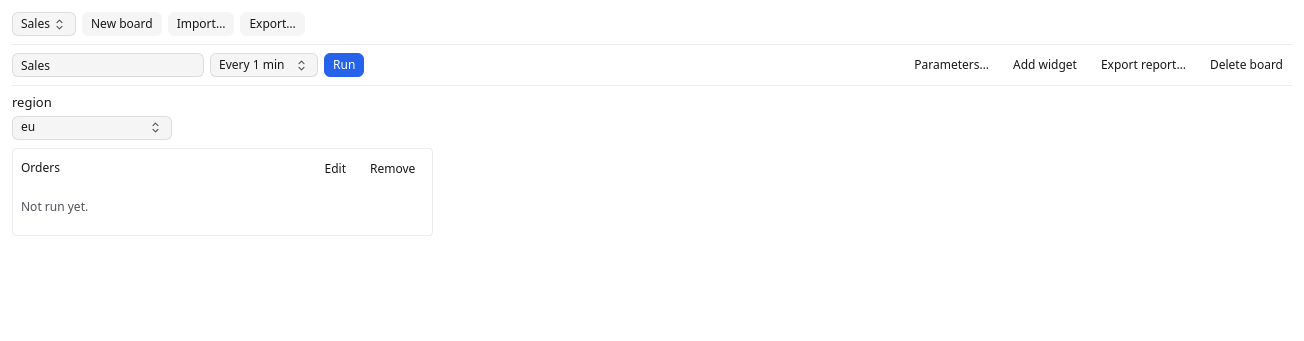
Scenario: runs only on an explicit Run, binding typed values
Step 1. Select "us" in the dropdown labelled "region" → {"x": 92, "y": 128}, box x1=13 y1=116 x2=171 y2=138
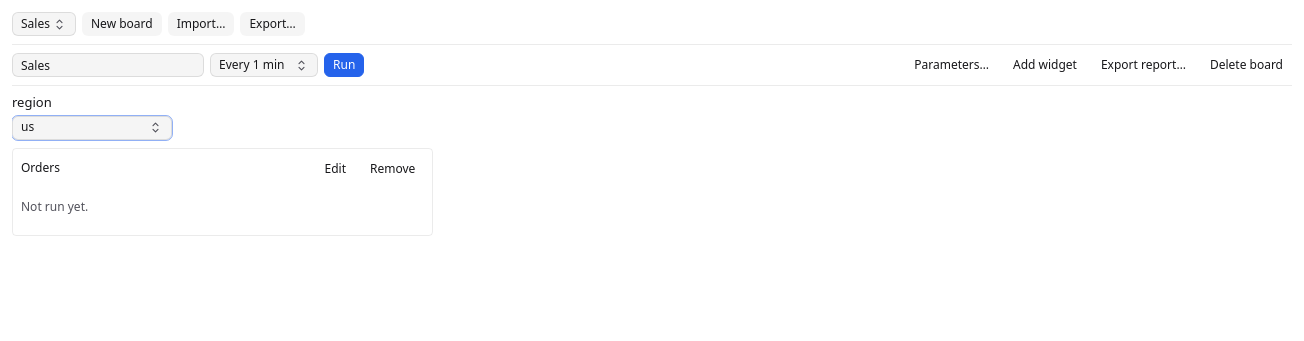
Step 2. Click the button "Run" → {"x": 344, "y": 65}, box x1=324 y1=53 x2=364 y2=77
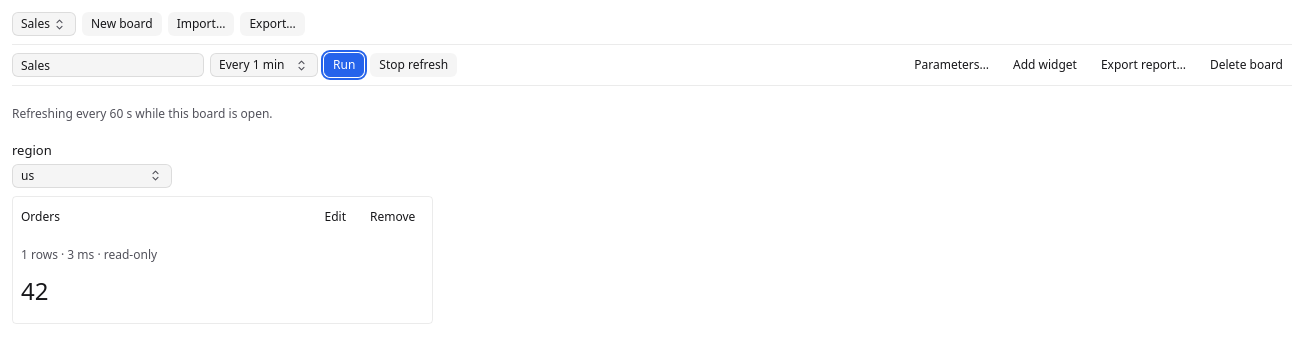
Check: the text "42" is shown, box x1=21 y1=274 x2=48 y2=307
Check: the button "Stop refresh" is shown, box x1=370 y1=53 x2=457 y2=77
